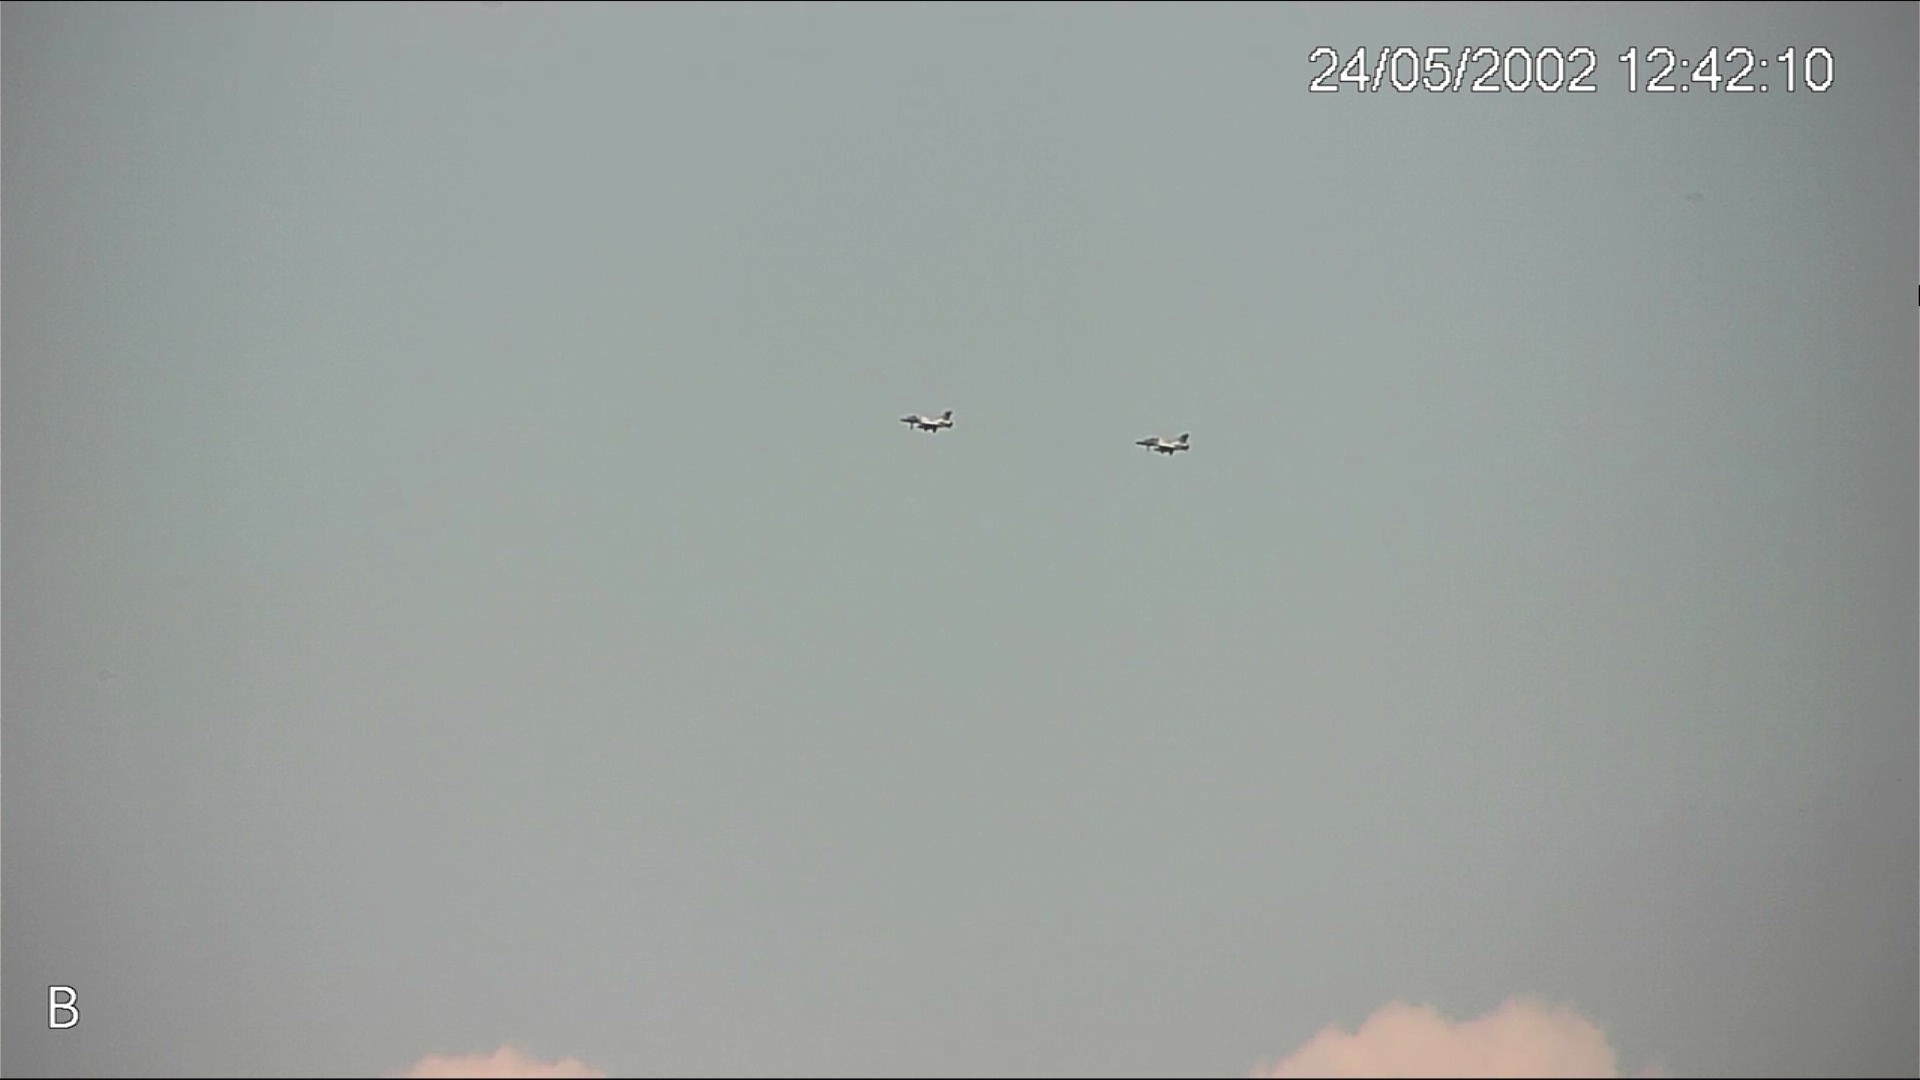SU_30: (1131, 429, 1192, 456), (899, 409, 956, 433)
